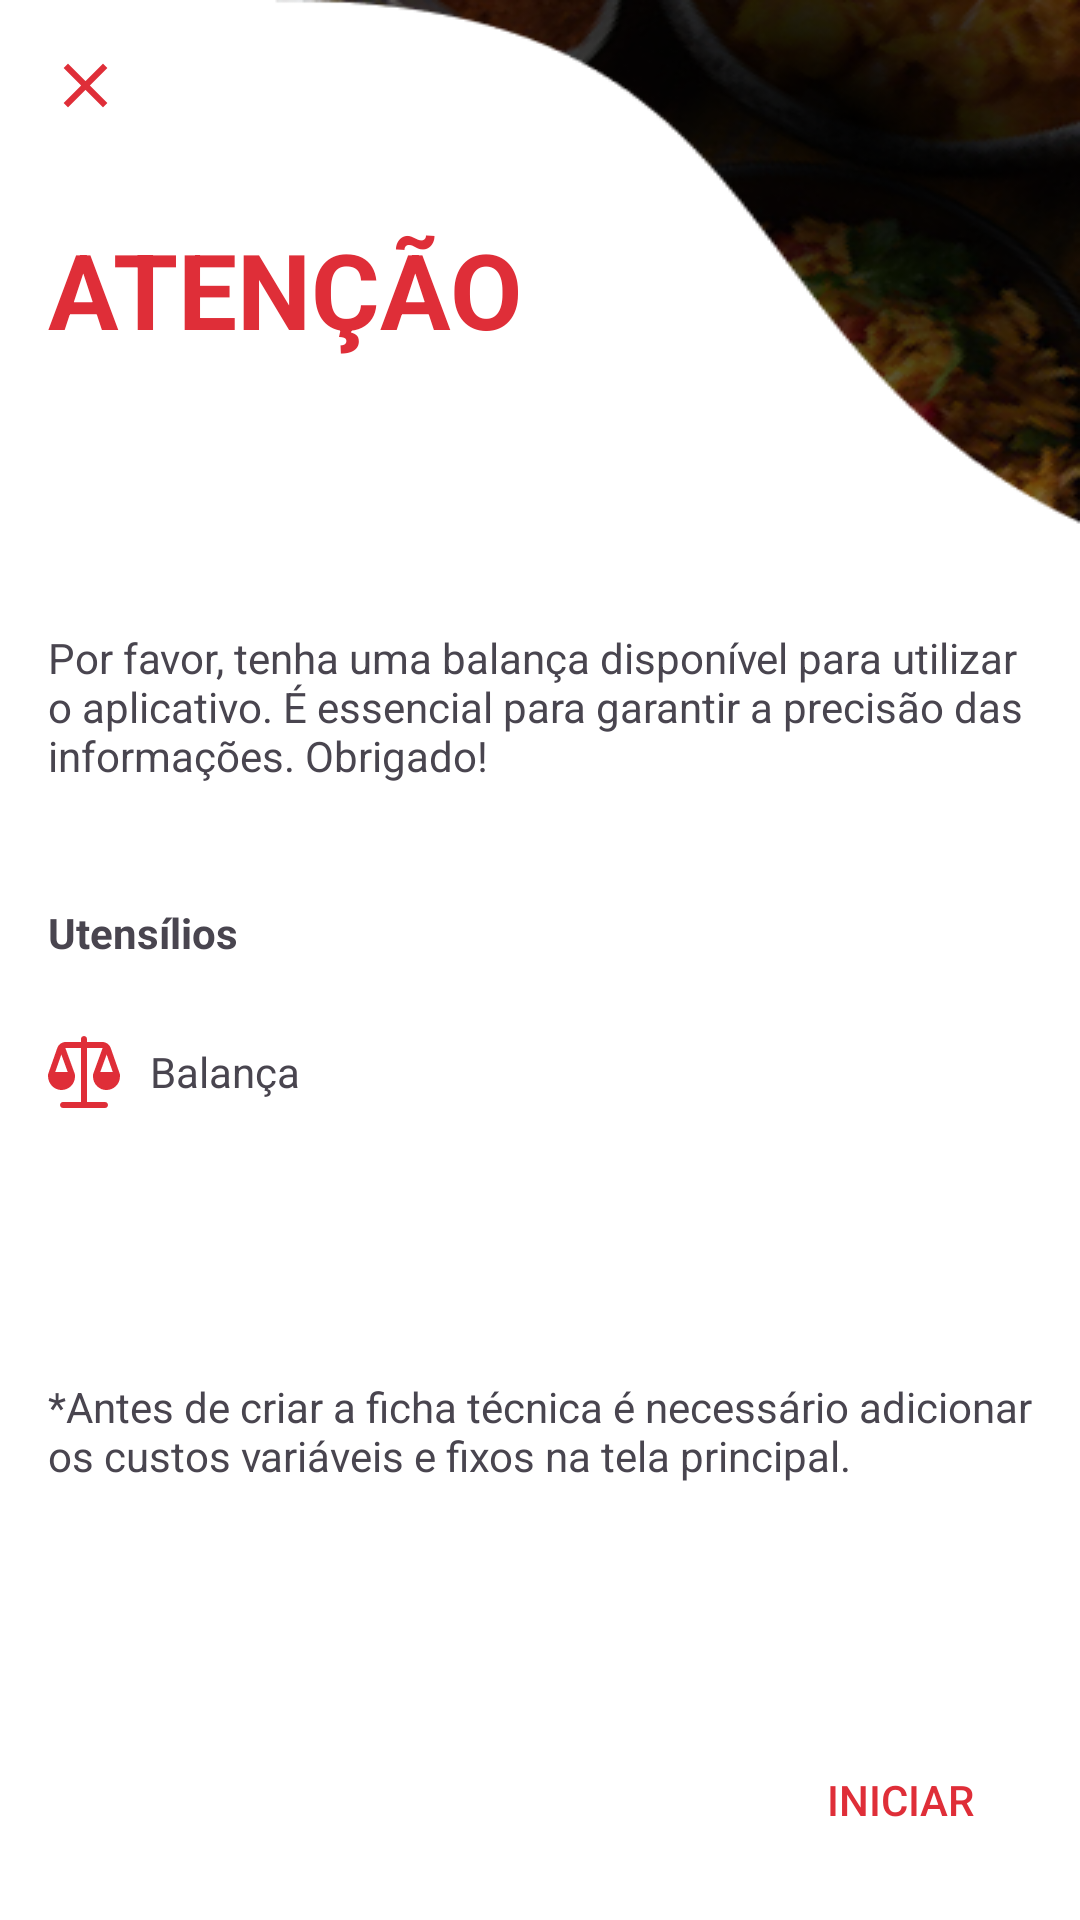

Icons on this 1080px×1920px Android screen, each with its box as (x1, y1, x2, y2):
balance: (48, 1036, 120, 1108)
clear: (64, 64, 107, 107)
